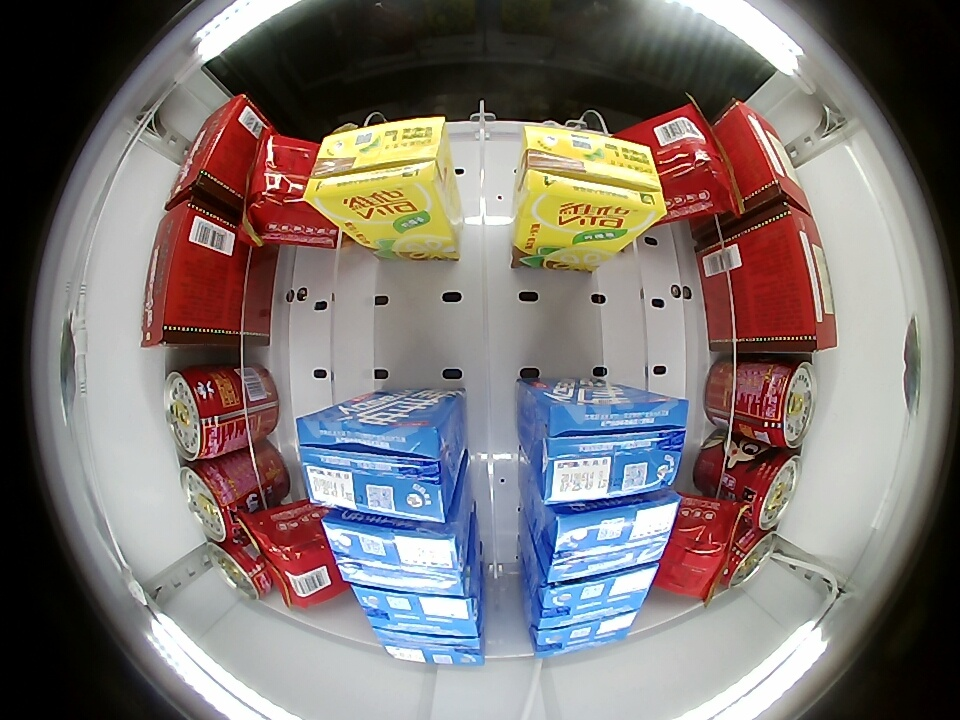haoliyou: (144, 203, 241, 344), (744, 206, 836, 349), (168, 93, 265, 207), (719, 101, 813, 218)
kaomo_shaokao: (632, 105, 736, 222), (245, 134, 346, 246), (247, 502, 345, 609), (657, 497, 740, 598)
wangzainiunai: (164, 368, 241, 461), (738, 359, 817, 449), (180, 459, 258, 544), (730, 448, 802, 531), (204, 533, 273, 602), (721, 528, 779, 589)
weitanai: (295, 401, 459, 523), (527, 384, 690, 505), (535, 488, 682, 583), (320, 510, 475, 595), (526, 563, 660, 630), (351, 582, 485, 637), (529, 611, 637, 658), (371, 625, 487, 667)
weitaningmeng: (522, 125, 667, 235), (303, 116, 449, 220)
